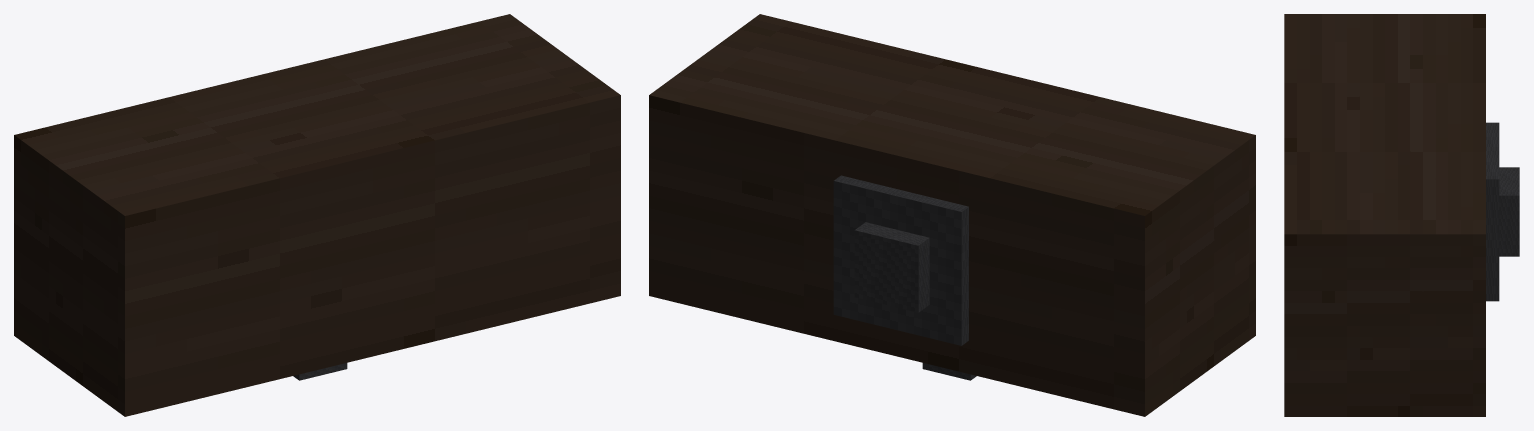
Rendered from arm_rpi.obj.
3 renders of one model, left to right at view 1: azimuth 30°, elevation 25°; view 2: azimuth 150°, elevation 25°; view 3: azimuth 270°, elevation 25°, orthographic. The views are drawn at different scales.
Parts seen in each view (by area): view 1: crossarm_brooks_brown_rpi; view 2: crossarm_brooks_brown_rpi; view 3: crossarm_brooks_brown_rpi.
Part boxes in pixels (x1,y1,x2,y2): crossarm_brooks_brown_rpi: [14, 14, 620, 416]; crossarm_brooks_brown_rpi: [649, 14, 1255, 416]; crossarm_brooks_brown_rpi: [1284, 14, 1519, 416].
Bounding box in the file's own units: 0.9688 × 0.4625 × 0.4375.
